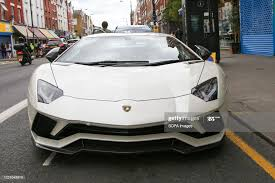Lamborghini: (34, 34, 225, 152)
